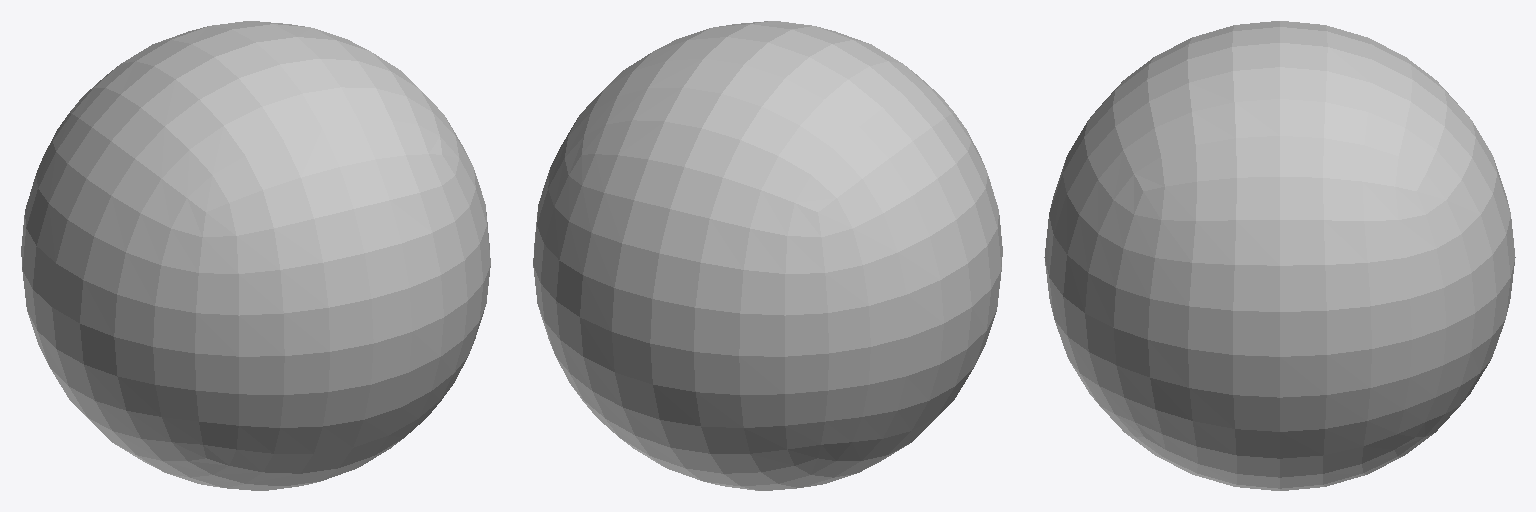
The model's file is pelotbasquet.obj.
The picture shows the model from 3 angles: view 1: azimuth 30°, elevation 25°; view 2: azimuth 150°, elevation 25°; view 3: azimuth 270°, elevation 25°; orthographic projection.
Parts seen in each view (by area): view 1: Cube_Cube.001; view 2: Cube_Cube.001; view 3: Cube_Cube.001.
Boxes of the visible parts, x1=… form: Cube_Cube.001: x1=21, y1=21, x2=490, y2=490; Cube_Cube.001: x1=533, y1=21, x2=1002, y2=490; Cube_Cube.001: x1=1044, y1=21, x2=1515, y2=490.
Bounding box in the file's own units: 1.06 × 1.06 × 1.06.